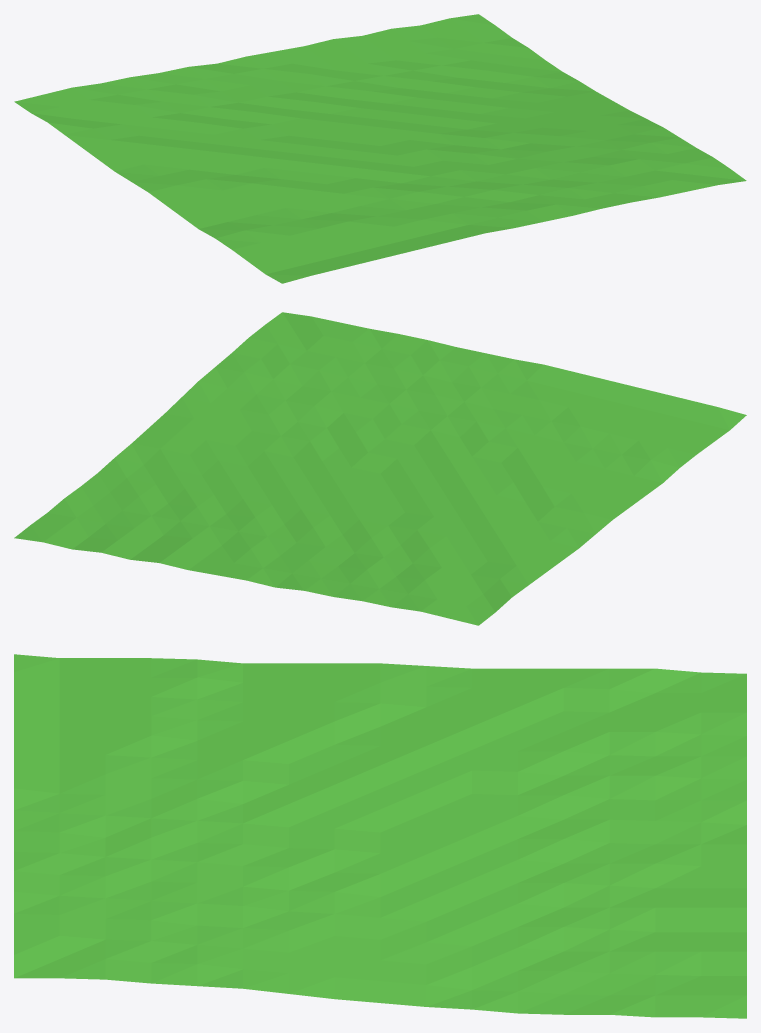
Rendered from natura_world_164.gltf.
3 views of the same model, one above another, from view 1: azimuth 30°, elevation 25°; view 2: azimuth 150°, elevation 25°; view 3: azimuth 270°, elevation 25° (orthographic). The views are drawn at different scales.
Parts seen in each view (by area): view 1: natura_world.164; view 2: natura_world.164; view 3: natura_world.164.
Boxes of the visible parts, <box> form: natura_world.164: <box>14,14,746,283</box>; natura_world.164: <box>14,312,746,625</box>; natura_world.164: <box>14,654,746,1018</box>.
Bounding box in the file's own units: 0.125 × 0.0105 × 0.125.
